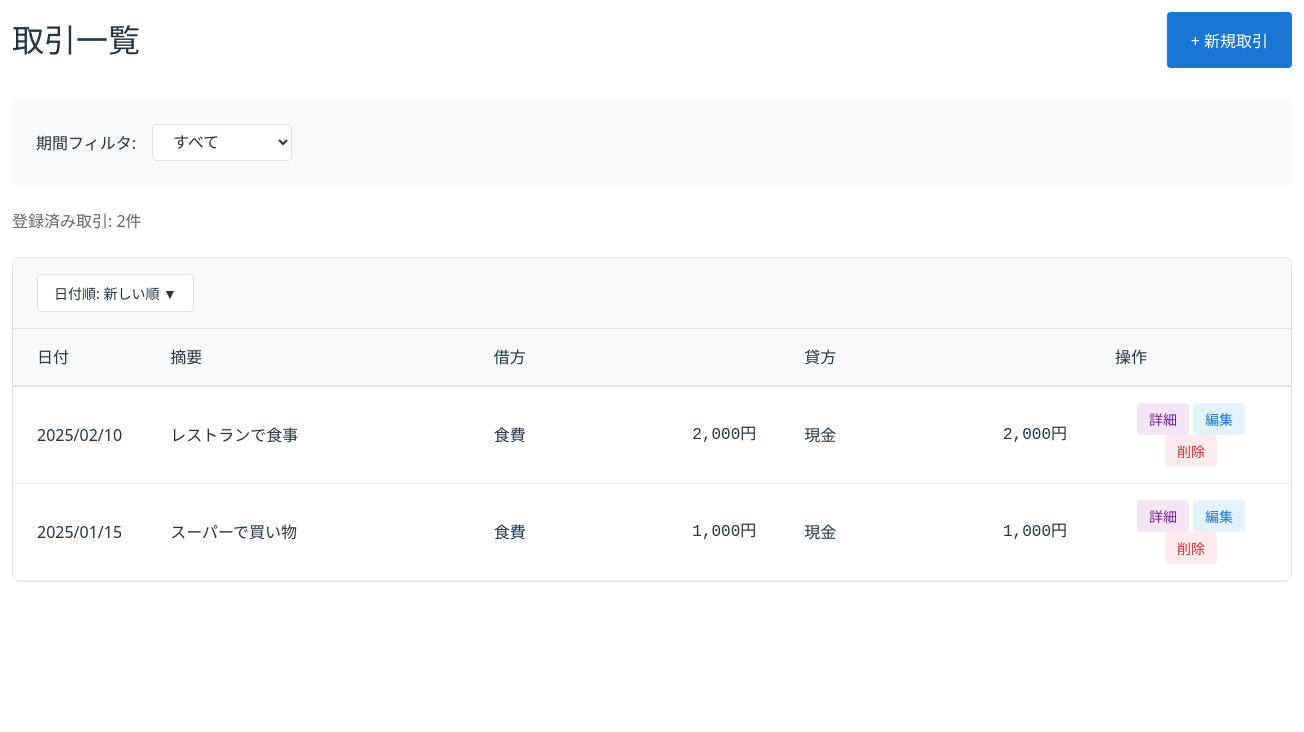
Test: TransactionList Page › shows success message after deleting a transaction
What coordinates should you click on to do the following:
click the button with aria-label "を削除"
I would click on:
 (1191, 451)
Its box is [1165,435,1217,467].
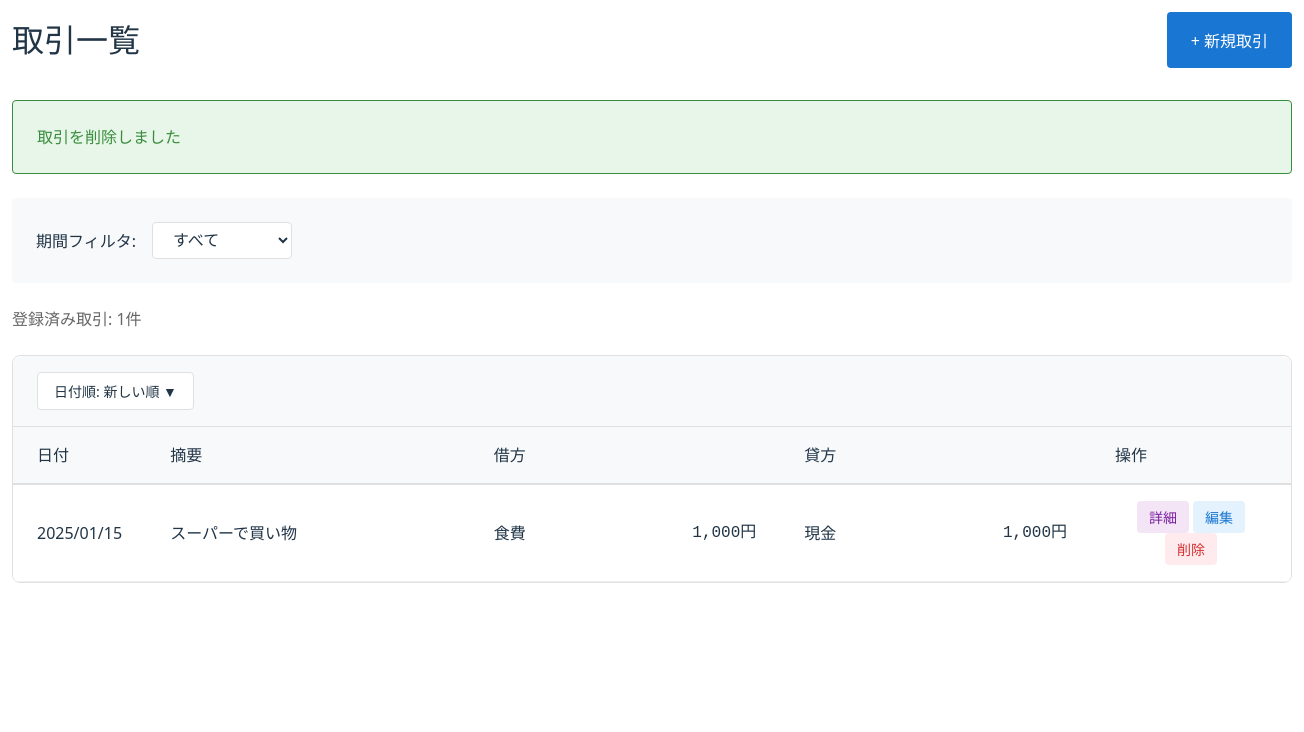
Expected: the text "取引を削除しました" is shown, [12,100,1292,174]
